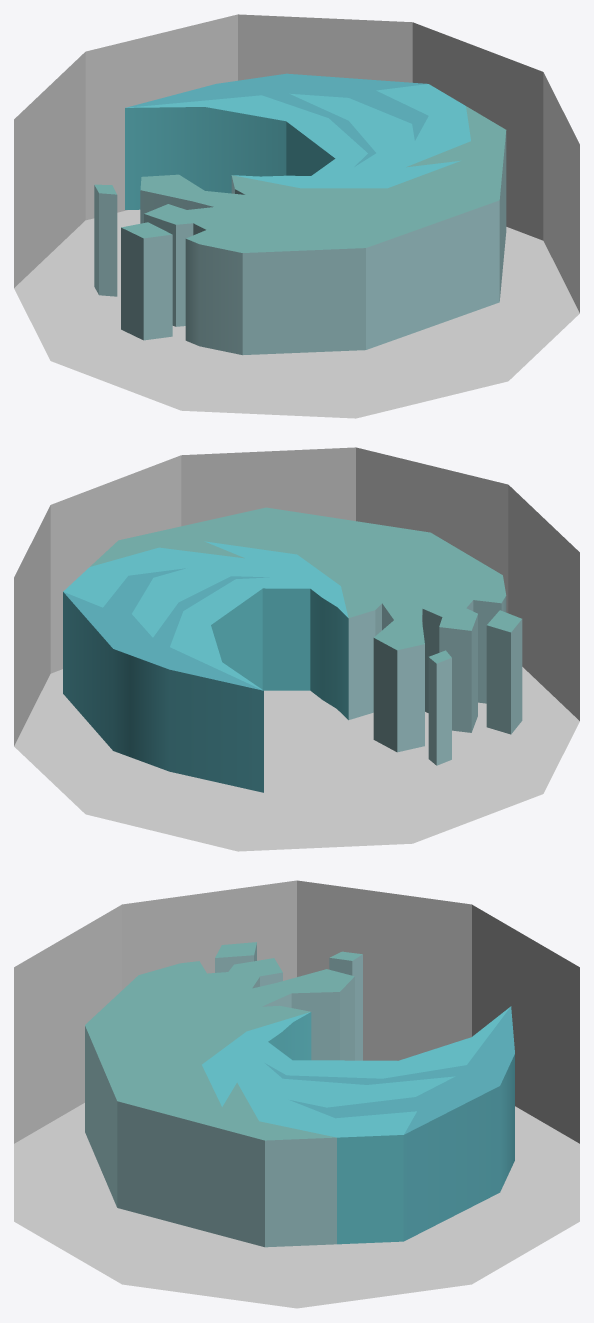
The model's file is SeaweedSmoothieWaveOld_0.glb.
3 views of the same model, one above another, from view 1: azimuth 30°, elevation 25°; view 2: azimuth 150°, elevation 25°; view 3: azimuth 270°, elevation 25° (orthographic). The views are drawn at different scales.
Parts seen in each view (by area): view 1: SeaweedSmoothieWaveOld; view 2: SeaweedSmoothieWaveOld; view 3: SeaweedSmoothieWaveOld.
Boxes of the visible parts, left/top/right/bottom form: SeaweedSmoothieWaveOld: left=14, top=14, right=579, bottom=418; SeaweedSmoothieWaveOld: left=14, top=447, right=579, bottom=851; SeaweedSmoothieWaveOld: left=14, top=880, right=579, bottom=1308.
Size of the model in its own units: 0.1919 by 0.0628 by 0.1825.
